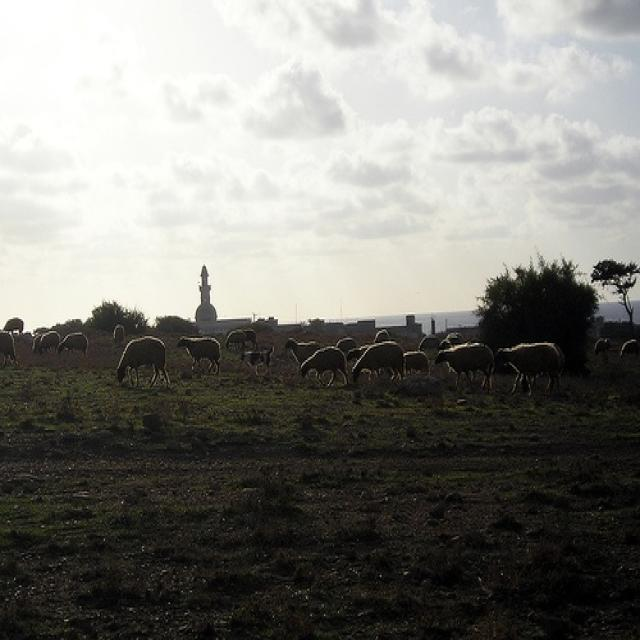sheep: (497, 343, 562, 398), (116, 338, 168, 389), (435, 343, 494, 386), (353, 343, 403, 382), (300, 346, 348, 386), (179, 334, 219, 370), (285, 338, 315, 362), (55, 334, 88, 354), (0, 331, 17, 369), (403, 350, 429, 374), (36, 331, 58, 350), (418, 336, 441, 352), (336, 334, 354, 354), (222, 328, 244, 344), (621, 339, 639, 358), (594, 338, 612, 357), (348, 347, 368, 360), (4, 318, 23, 331), (372, 329, 388, 343)
